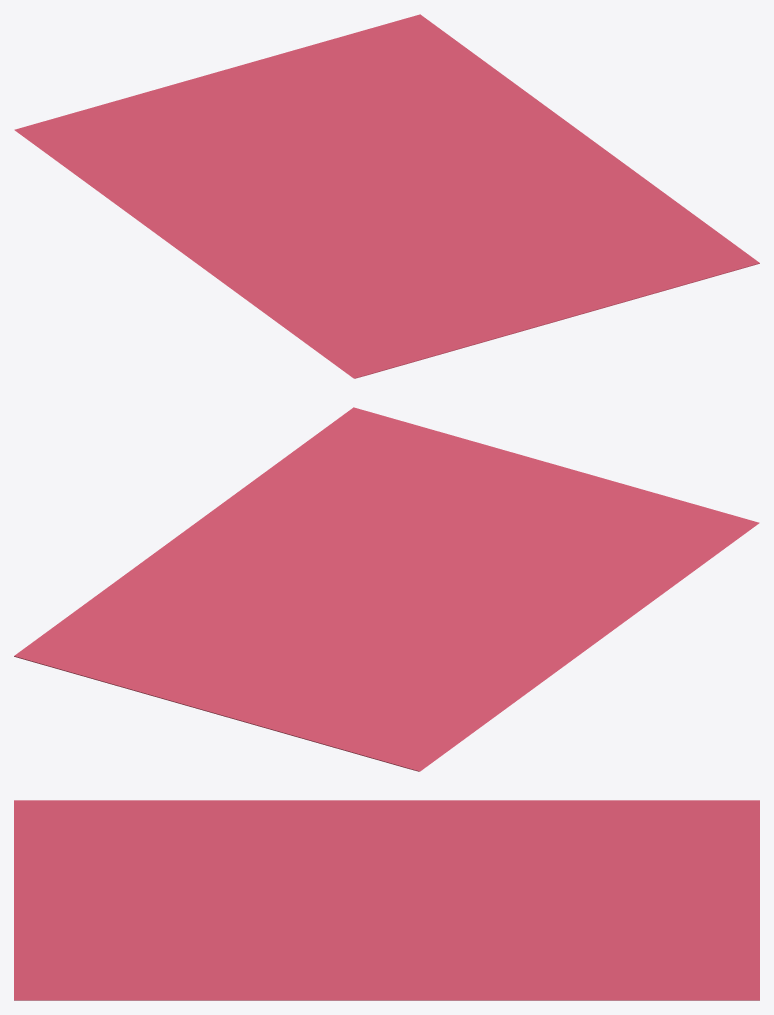
File: BookPaper1 1.fbx
3 renders of one model, top to bottom at view 1: azimuth 30°, elevation 25°; view 2: azimuth 150°, elevation 25°; view 3: azimuth 270°, elevation 25°, orthographic. The views are drawn at different scales.
Parts seen in each view (by area): view 1: paper.001; view 2: paper.001; view 3: paper.001.
Boxes of the visible parts, x1,y1,x2,y2 form: paper.001: [14, 14, 759, 378]; paper.001: [14, 407, 759, 771]; paper.001: [14, 800, 759, 1000].
Bounding box in the file's own units: 306 × 12.2 × 443.
